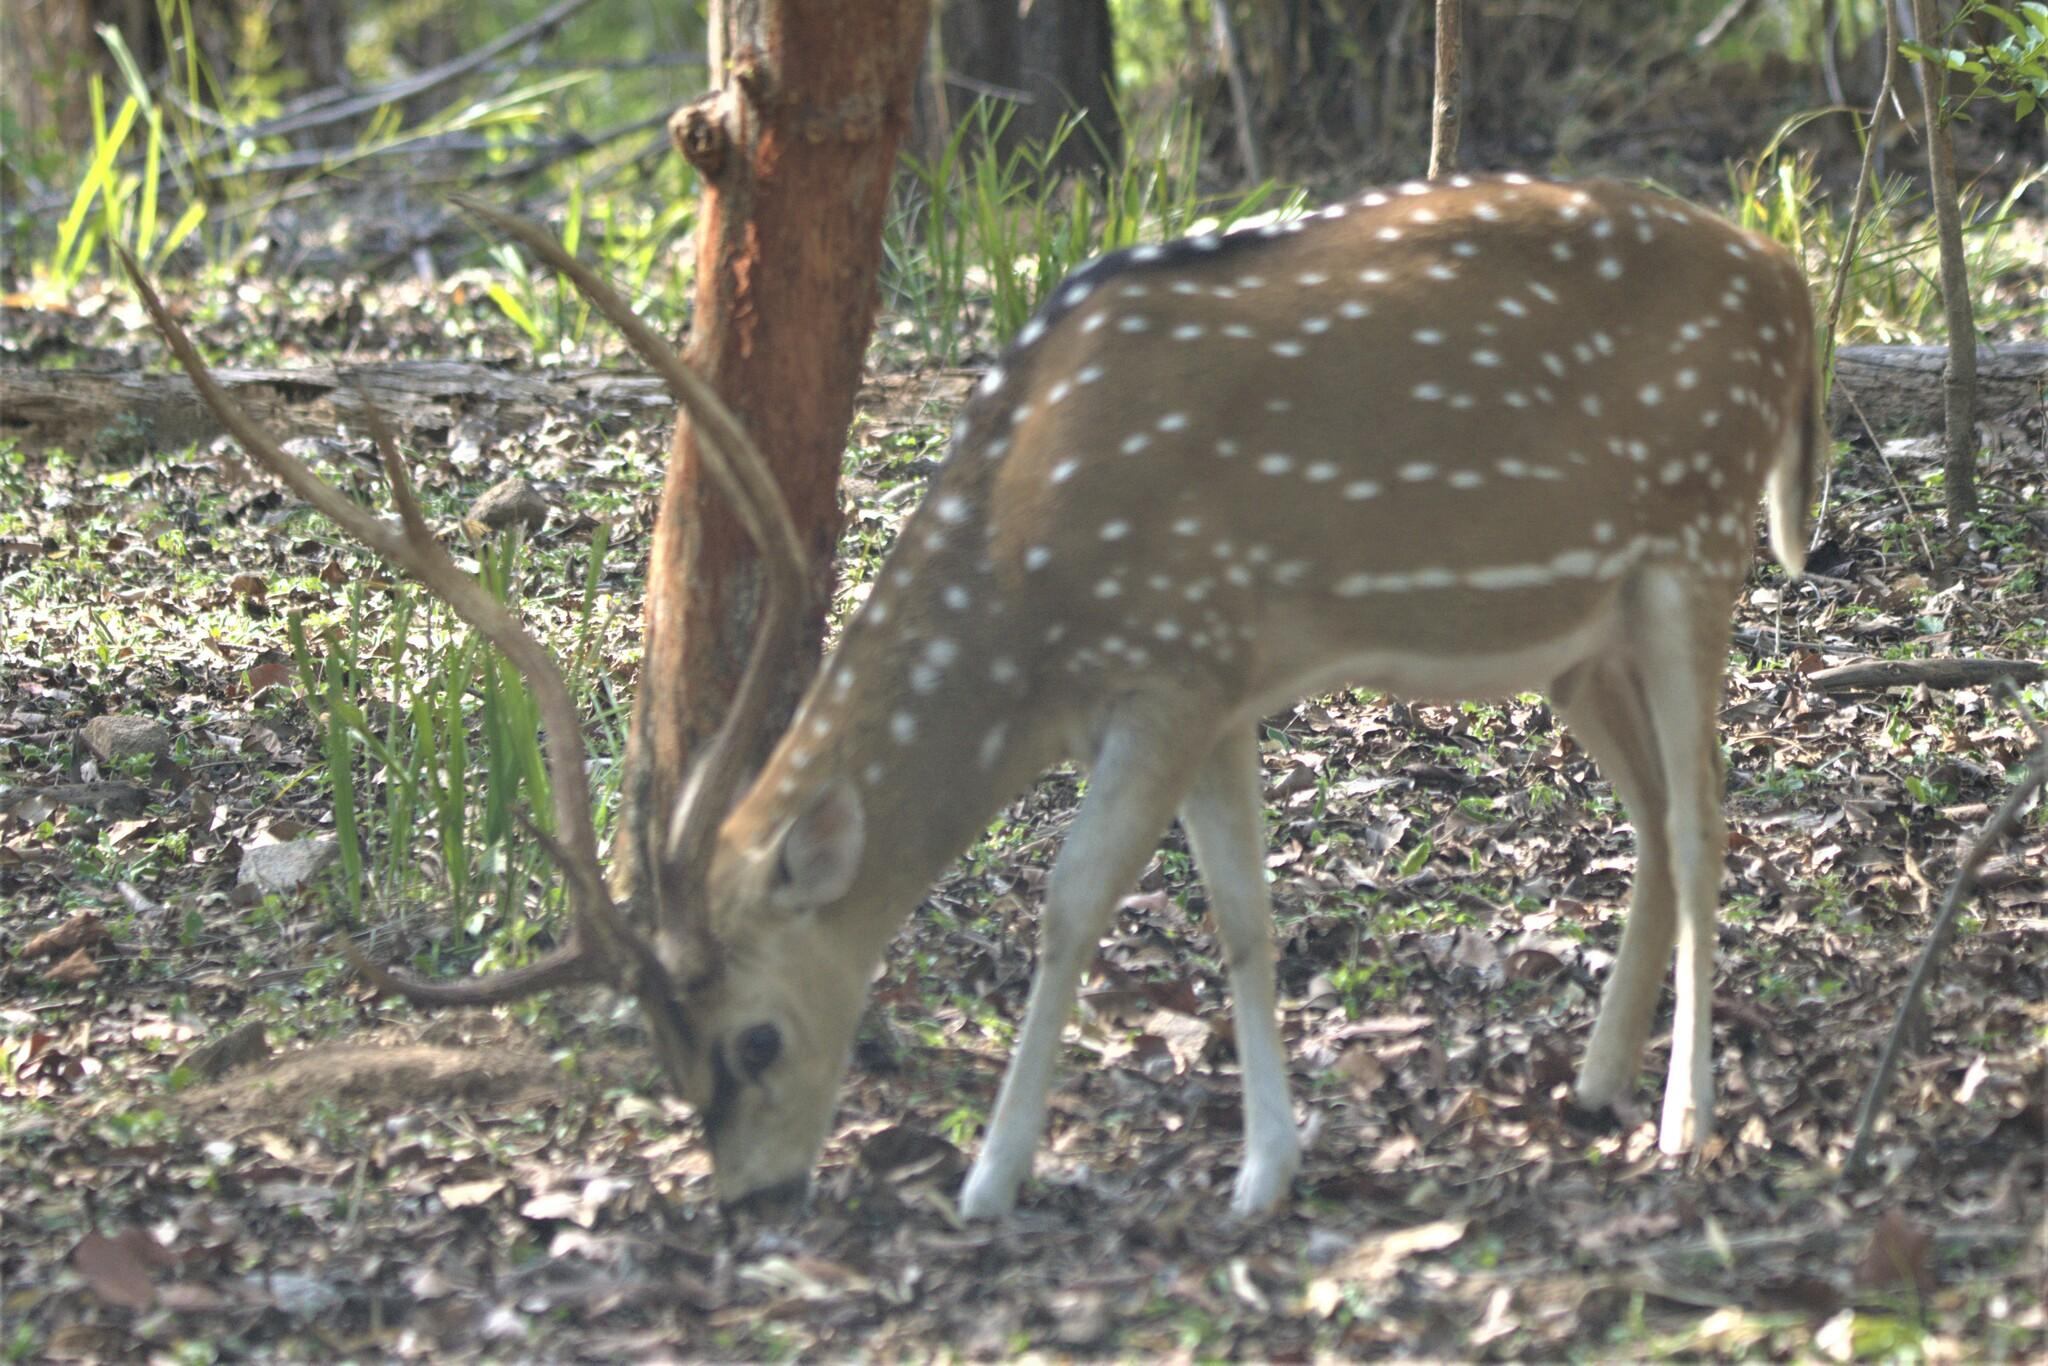Deer: (130, 175, 1826, 1217)
